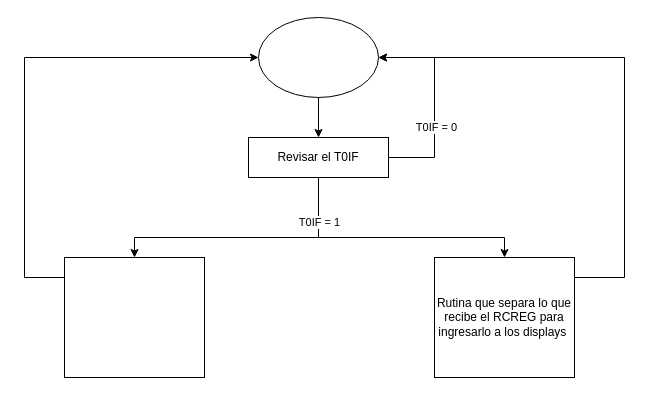
Some shapes in this 650 by 395 pixel diagram are drawn without their labels. Here are the shapes that lost their labels. From the top down, the centre of each, then its label:
[318,57]: Reviasar interrupcion del timer 0
[134,317]: Rutina que muxea la señal para los display
